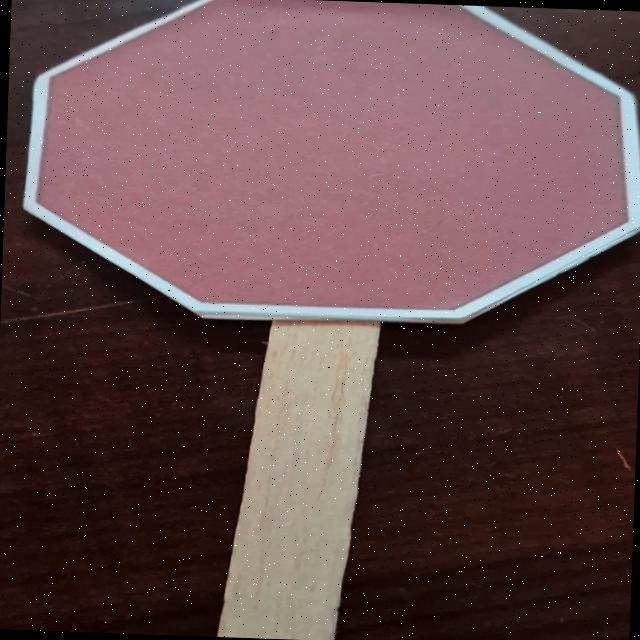Stop: (5, 0, 640, 347)
